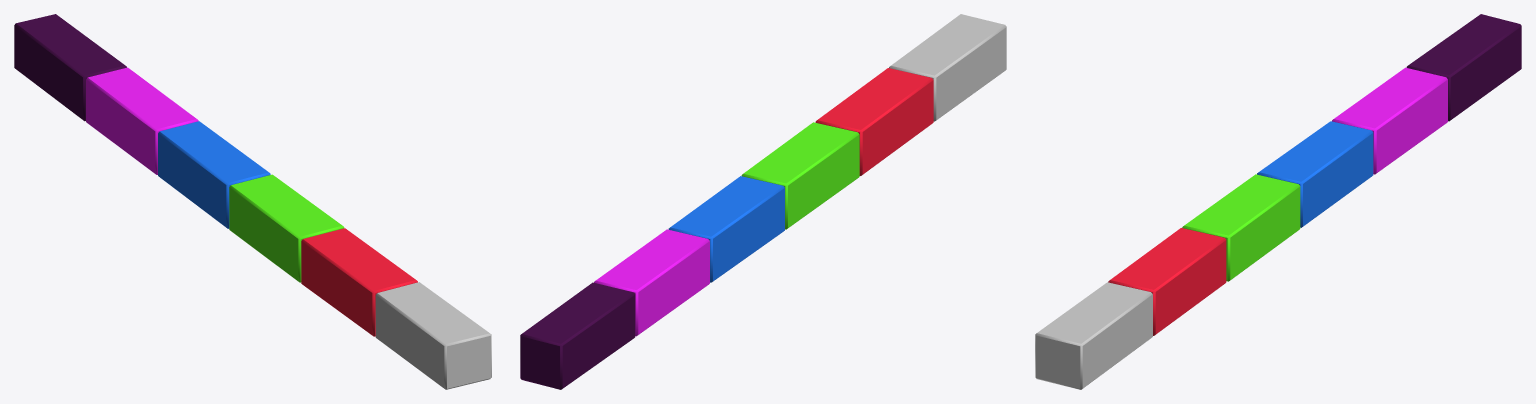
File: museum.fbx
The picture shows the model from 3 angles, left to right: view 1: azimuth 30°, elevation 25°; view 2: azimuth 150°, elevation 25°; view 3: azimuth 330°, elevation 25°; orthographic projection.
Parts seen in each view (by area): view 1: Cube, Cube_1, Cube_2, Cube_3, Cube_4, Cube_5; view 2: Cube_5, Cube_1, Cube_2, Cube, Cube_3, Cube_4; view 3: Cube, Cube_2, Cube_1, Cube_4, Cube_3, Cube_5.
Part boxes in pixels (<box>): Cube: <box>375,282,491,389</box>; Cube_1: <box>301,228,417,336</box>; Cube_2: <box>229,174,344,282</box>; Cube_3: <box>158,121,270,228</box>; Cube_4: <box>86,67,198,174</box>; Cube_5: <box>14,14,126,121</box>; Cube_5: <box>520,282,635,389</box>; Cube_1: <box>815,68,933,175</box>; Cube_2: <box>741,122,859,229</box>; Cube: <box>889,14,1006,121</box>; Cube_3: <box>668,176,784,282</box>; Cube_4: <box>594,229,709,336</box>; Cube: <box>1035,282,1152,389</box>; Cube_2: <box>1182,174,1300,281</box>; Cube_1: <box>1108,228,1226,335</box>; Cube_4: <box>1332,67,1447,174</box>; Cube_3: <box>1257,121,1373,227</box>; Cube_5: <box>1406,14,1521,121</box>.
Size of the model in its own units: 151 by 136 by 2348.
